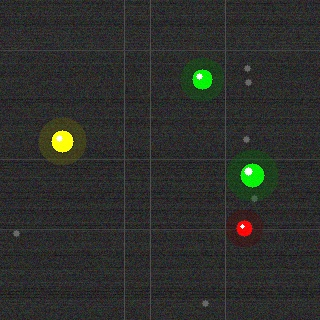green_normal: (238, 161, 266, 189), (190, 67, 214, 91)
red_fault: (234, 218, 254, 238)
yellow_warning: (49, 128, 75, 154)
